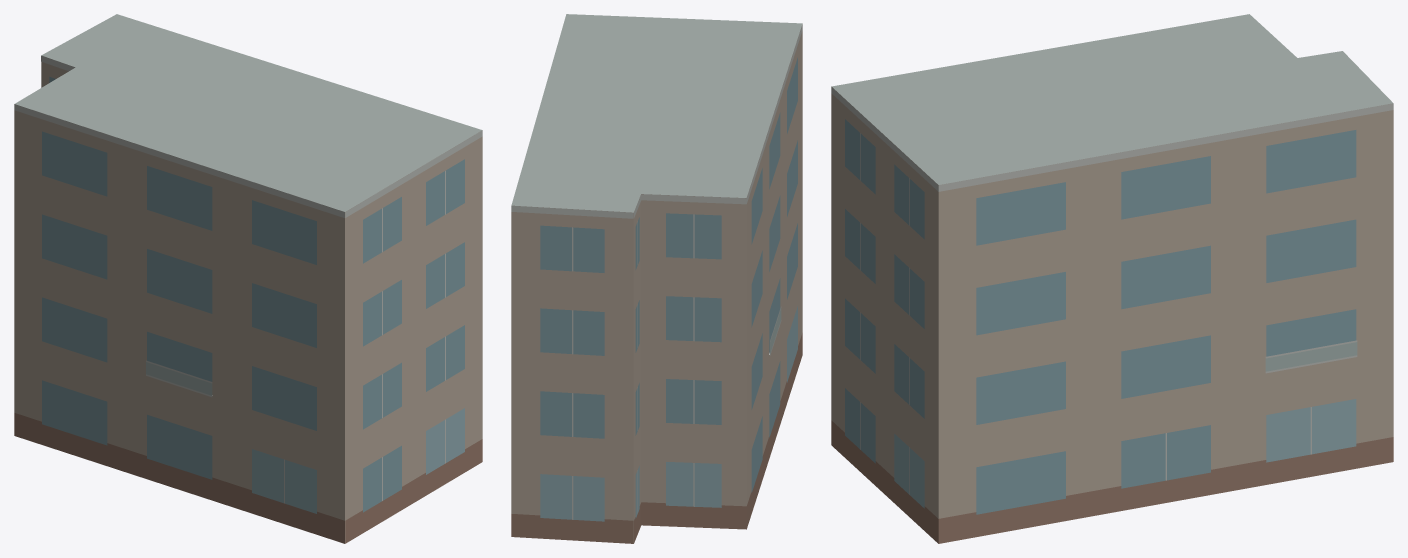
The model's file is survey-upis-32854663.glb.
The picture shows the model from 3 angles, left to right: view 1: azimuth 30°, elevation 25°; view 2: azimuth 150°, elevation 25°; view 3: azimuth 270°, elevation 25°; orthographic projection. The views are drawn at different scales.
Parts seen in each view (by area): view 1: survey-upis-32854663.tmp; view 2: survey-upis-32854663.tmp; view 3: survey-upis-32854663.tmp.
Boxes of the visible parts, box(x1,y1,x2,y2) form: survey-upis-32854663.tmp: box(14, 14, 482, 543); survey-upis-32854663.tmp: box(511, 14, 802, 543); survey-upis-32854663.tmp: box(831, 14, 1393, 543).
Size of the model in its own units: 13.26 by 12.95 by 18.4.
